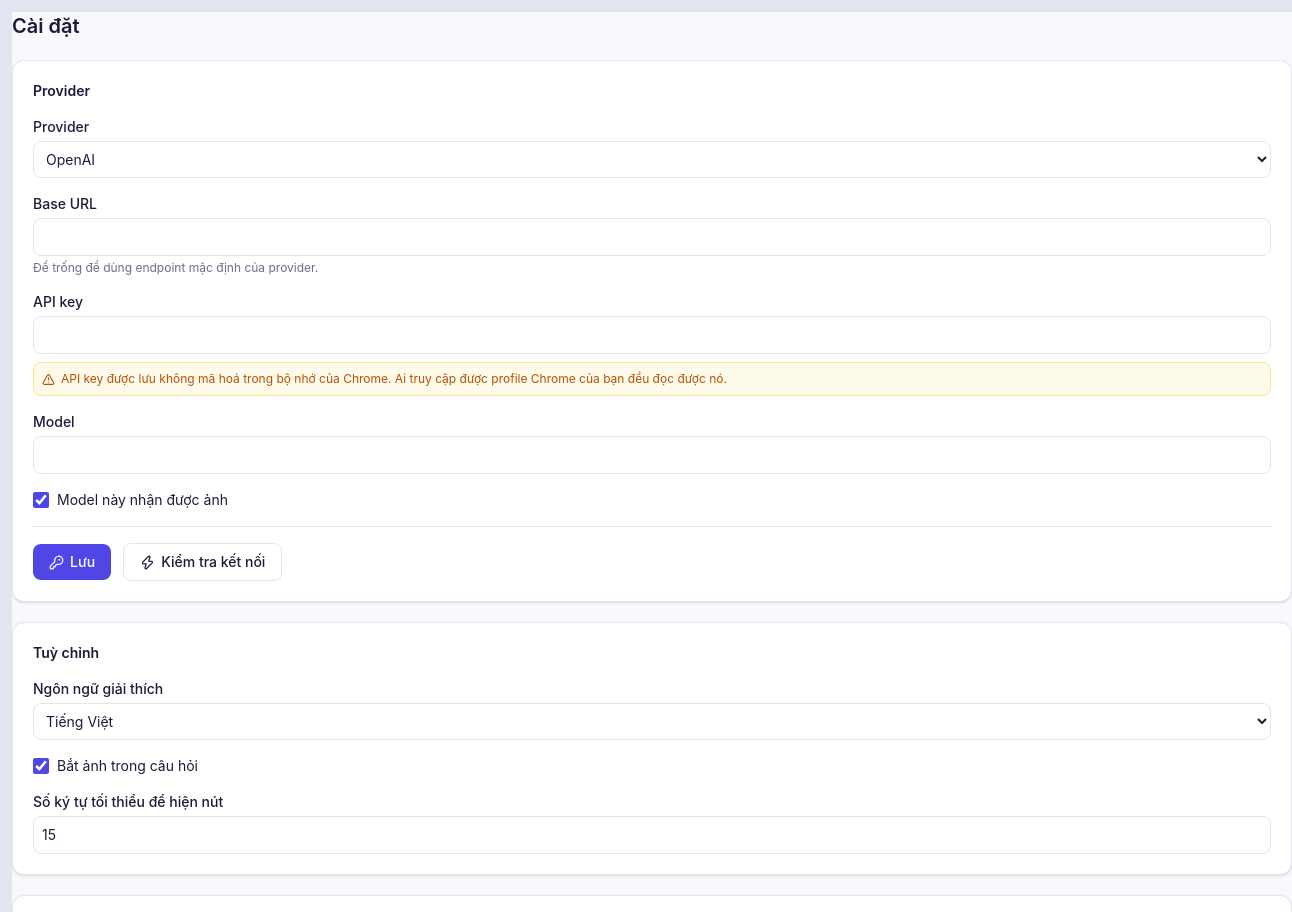
Settings view › saves the provider config and reloads it
Type "sk-abc" into the password field labelled "API key" at (652, 335), box [33, 316, 1271, 354]
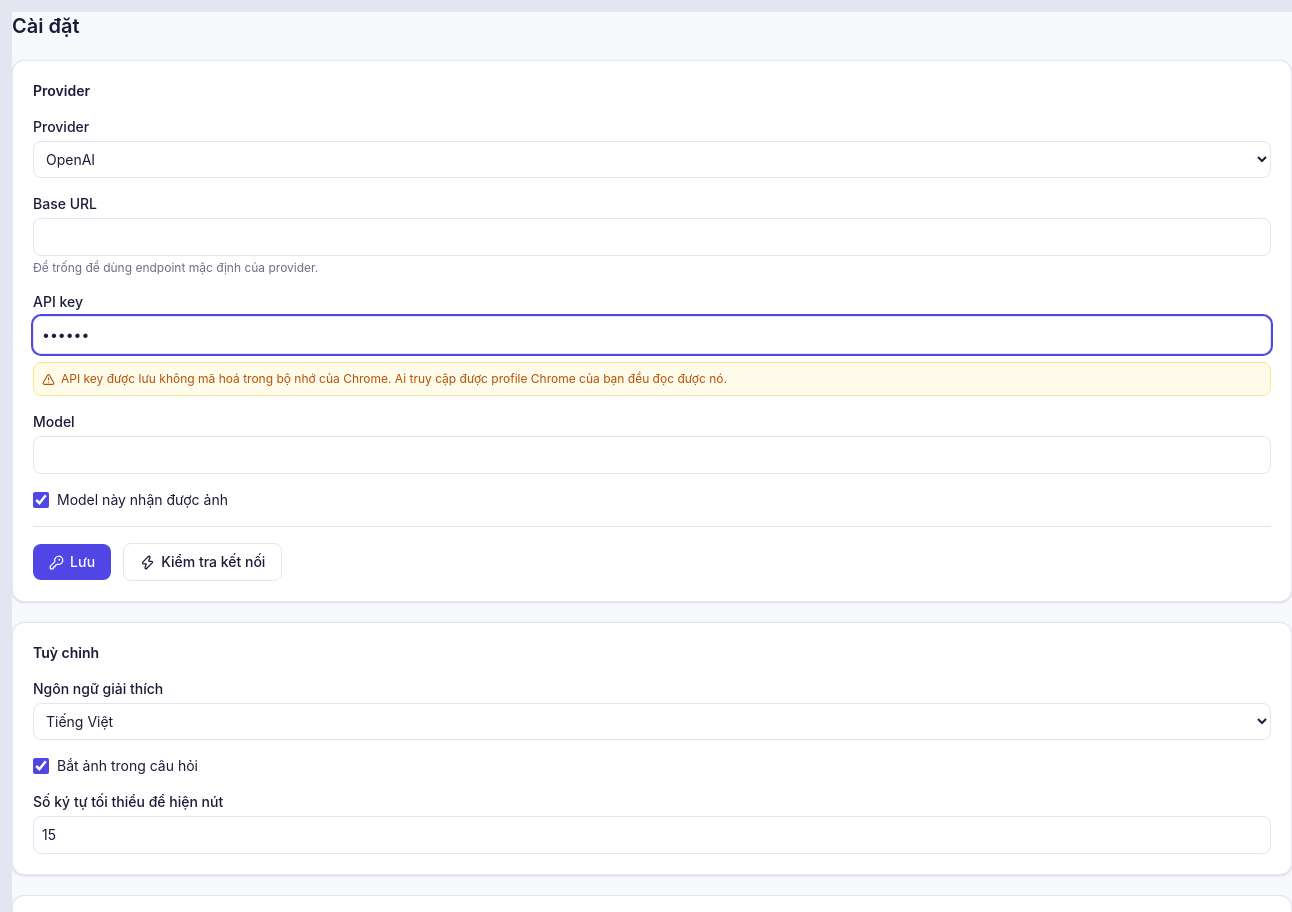
Type "gpt-test" into the field labelled "Model" at (652, 455), box [33, 436, 1271, 474]
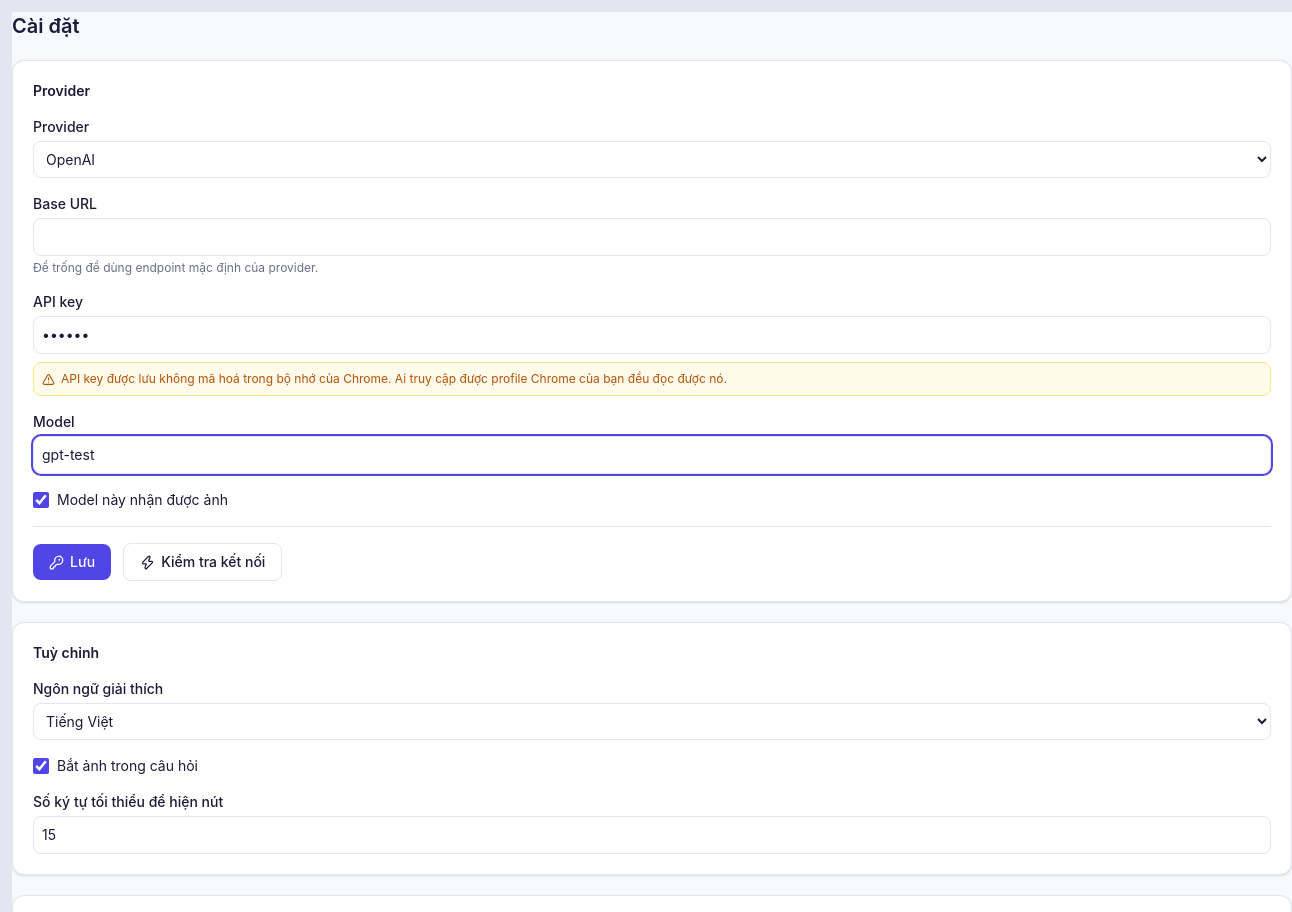
Click the button "Lưu" at (72, 562), box [33, 544, 111, 580]
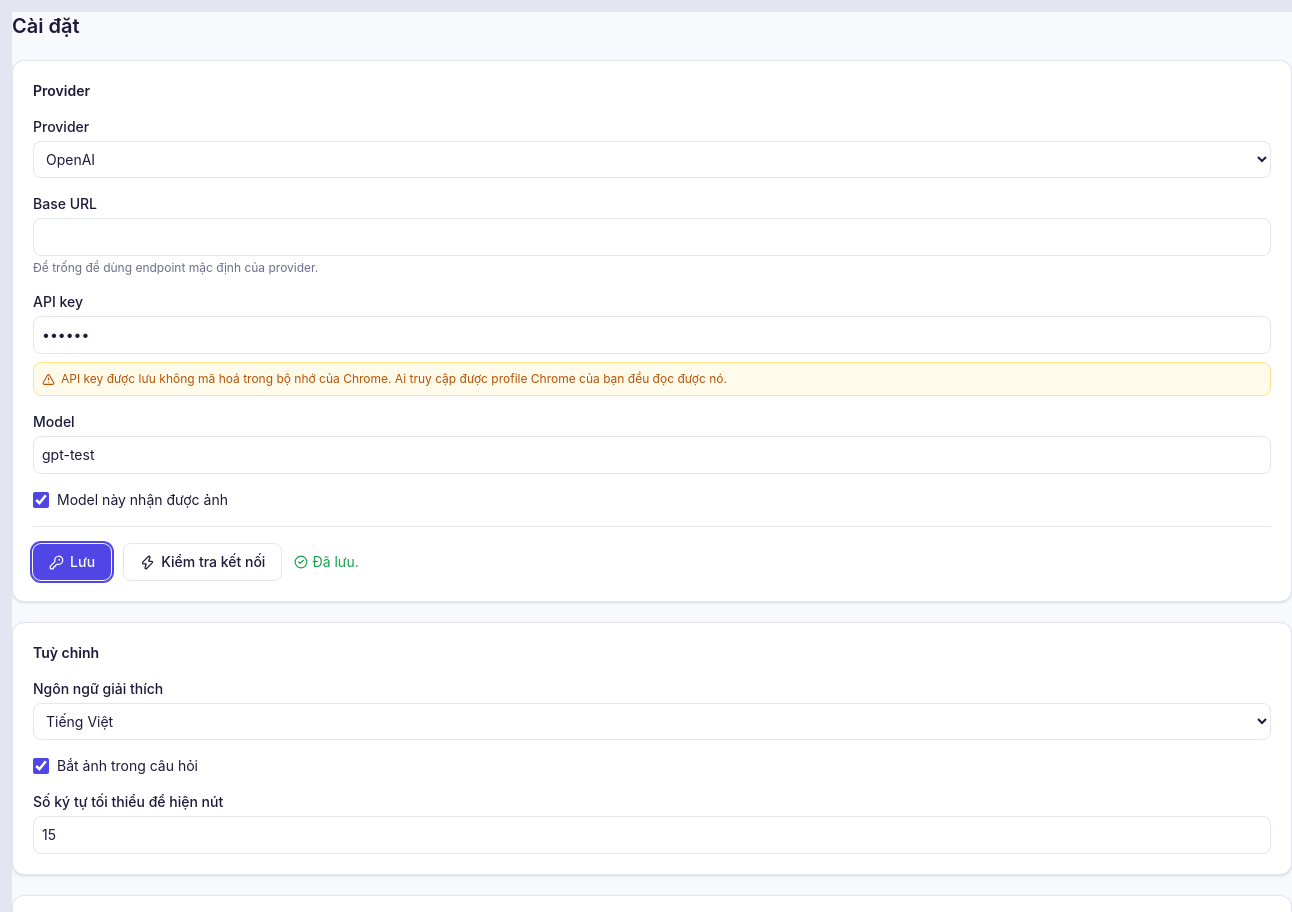
Now the text "Đã lưu." is shown, box [294, 552, 359, 572]
